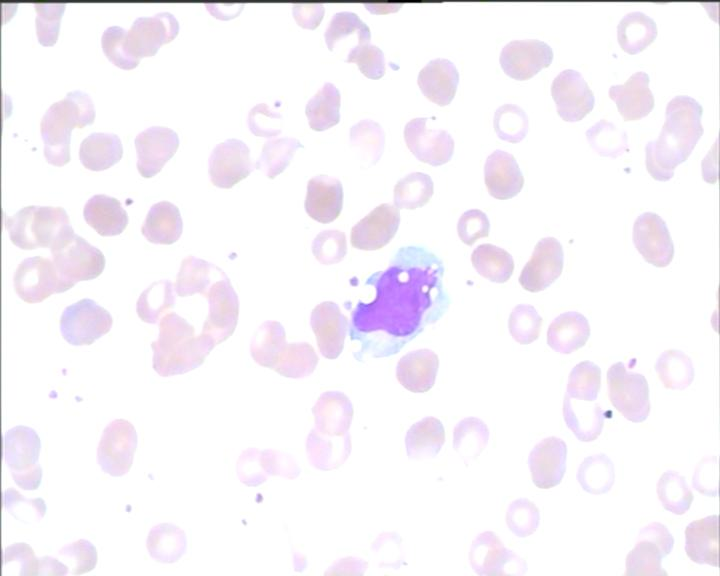mono: (344, 239, 455, 360)
